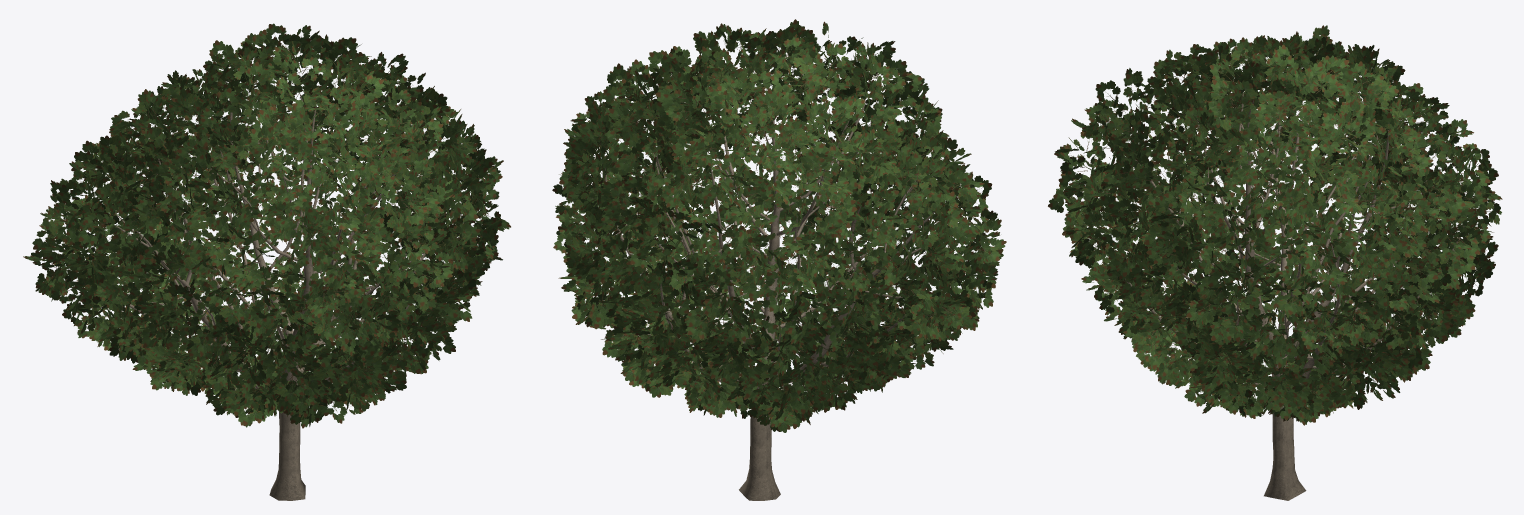
The model's file is marronnier.glb.
The picture shows the model from 3 angles, left to right: view 1: azimuth 30°, elevation 25°; view 2: azimuth 150°, elevation 25°; view 3: azimuth 270°, elevation 25°; orthographic projection. The views are drawn at different scales.
Visible parts, largest first — view 1: marronnier_feuilles, marronnier_ecorce; view 2: marronnier_feuilles, marronnier_ecorce; view 3: marronnier_feuilles, marronnier_ecorce.
Boxes of the visible parts, box(x1,y1,x2,y2) form: marronnier_feuilles: box(23, 23, 510, 428); marronnier_ecorce: box(87, 94, 443, 500); marronnier_feuilles: box(552, 19, 1006, 432); marronnier_ecorce: box(605, 88, 934, 500); marronnier_feuilles: box(1048, 25, 1502, 425); marronnier_ecorce: box(1125, 91, 1464, 500).
Bounding box in the file's own units: 19.54 × 19.27 × 18.07.
Materials: 2 (2 with a texture image).
